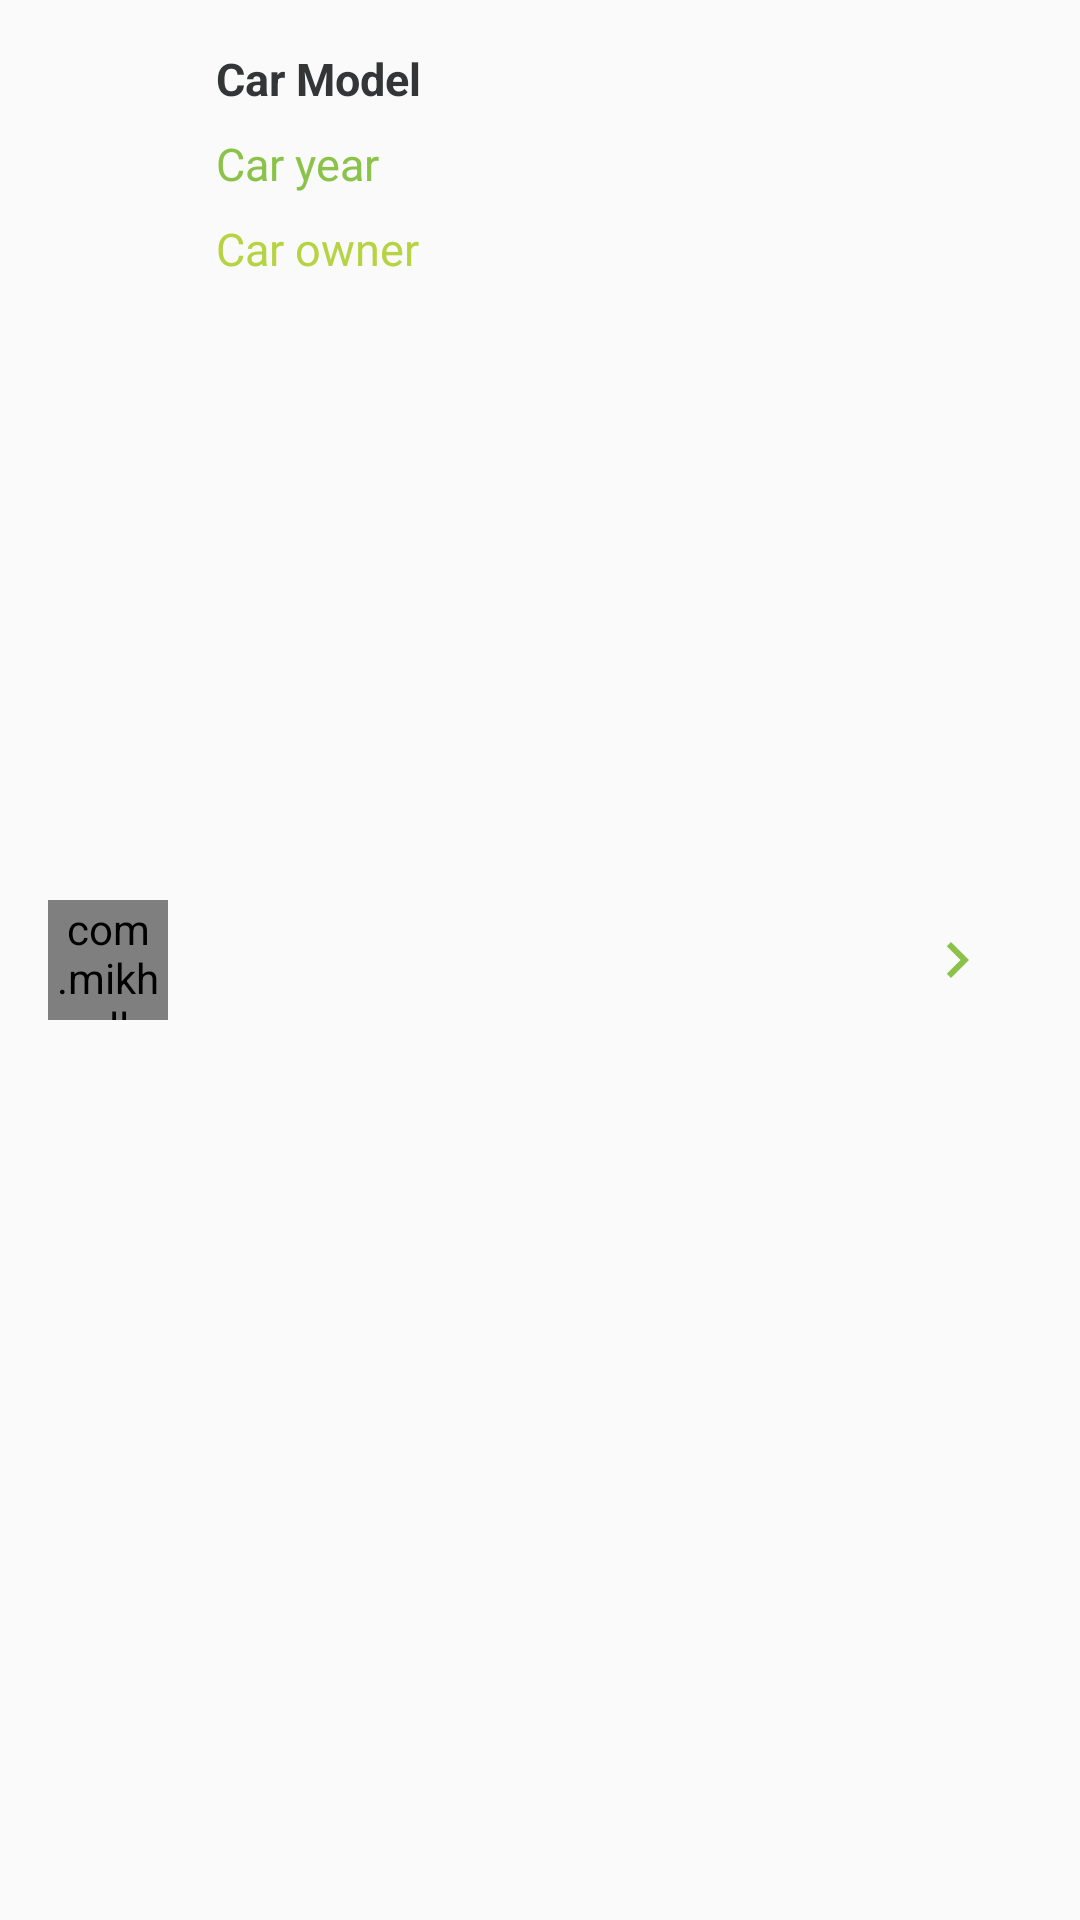

Where to tap for icons on this 1080 × 1920 app screen, as (x=x, y=y):
navigate next: (x=958, y=960)
